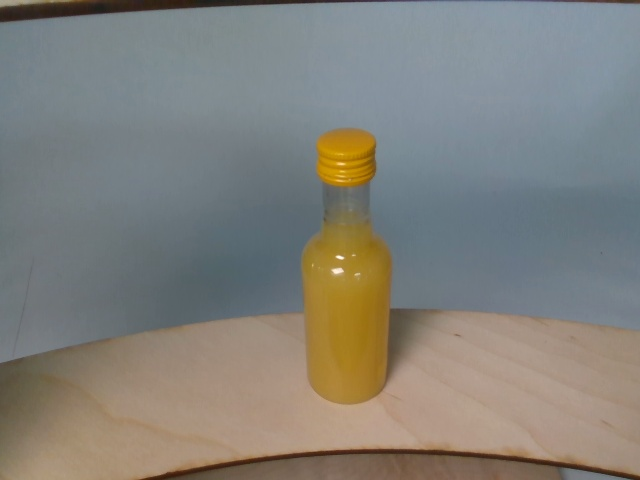orange_juice: (304, 129, 391, 403)
